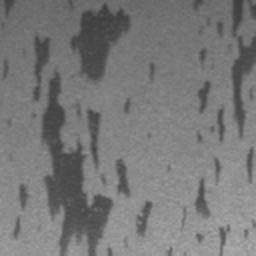Red iron sheet: (1, 0, 152, 256), (168, 0, 256, 256), (1, 0, 17, 31), (148, 63, 155, 82), (123, 100, 131, 111)
